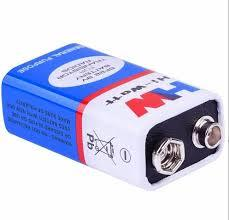9V: (0, 40, 226, 192)
